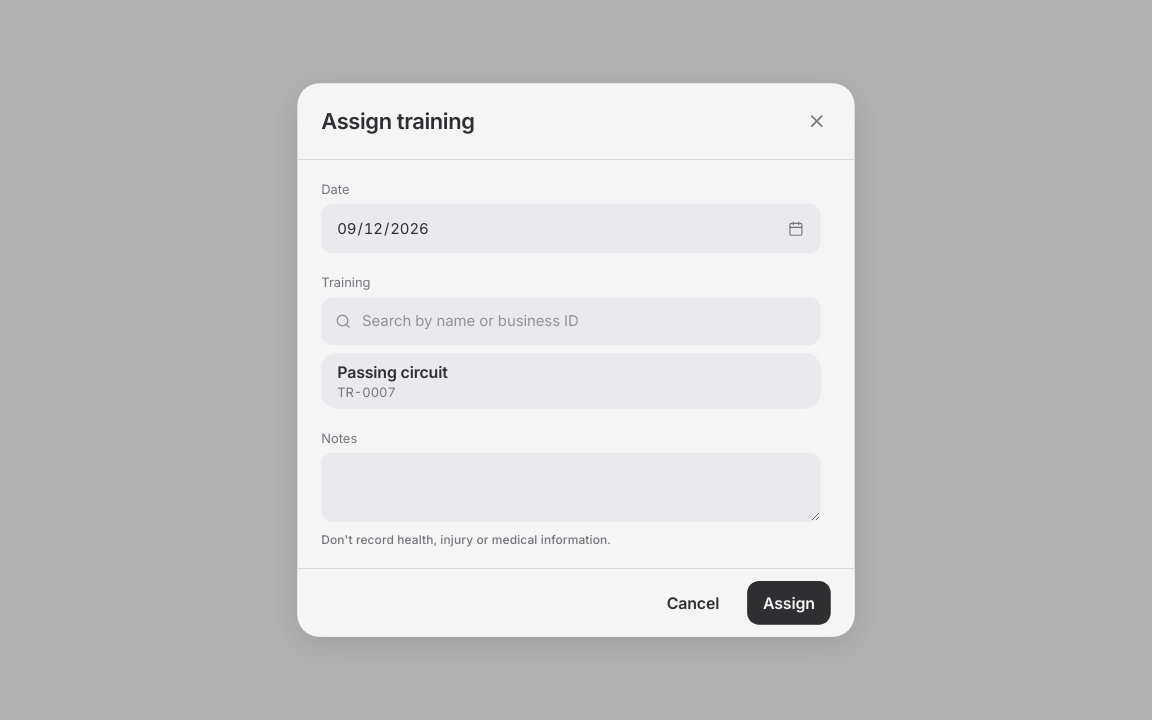
Test case: AssignTrainingDialog › Cancel after picking a training asks to discard
Click the radio button labelled "Passing circuit TR-0007" at (392, 381), box [336,362,447,400]
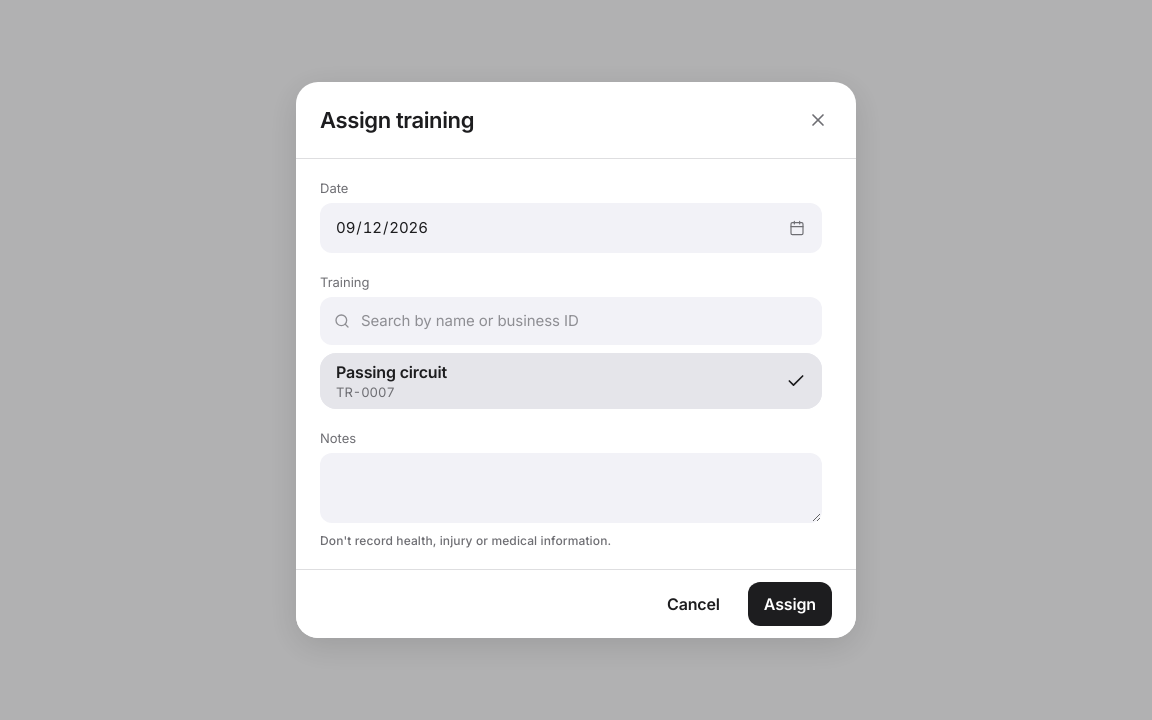
Click the button "Cancel" at (694, 604), box [651,582,736,626]
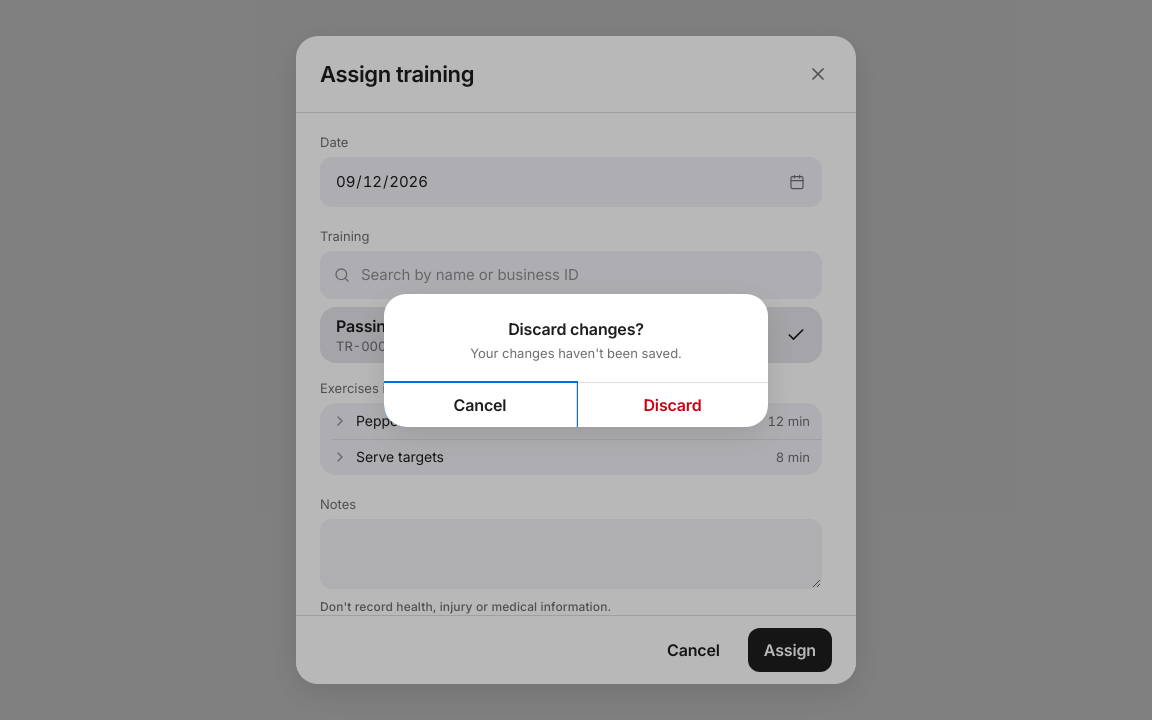
Now the dialog "Discard changes?" is shown, box [384,294,768,426]
